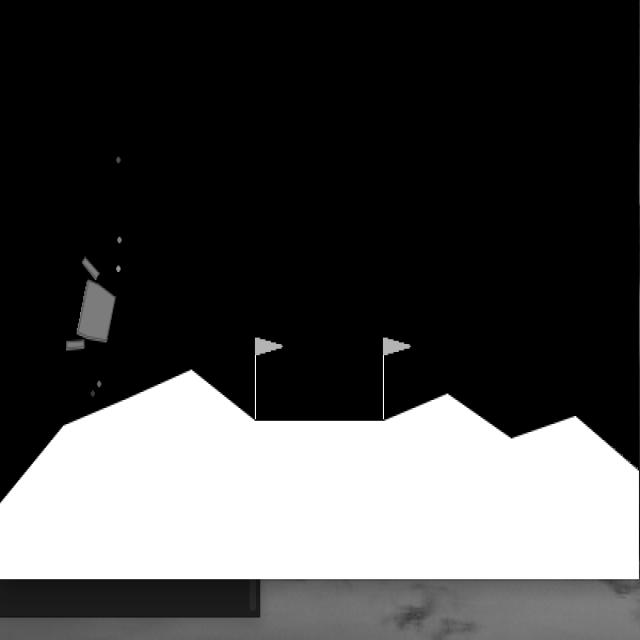lander: (62, 254, 123, 356)
landing_point: (253, 332, 389, 423)
